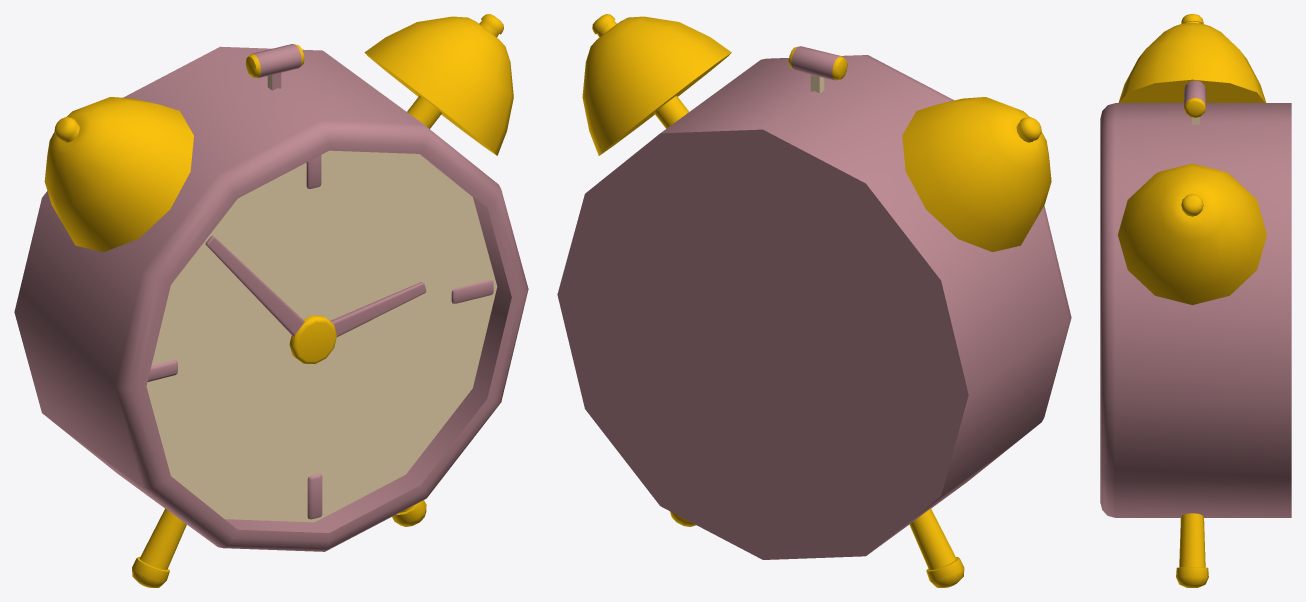
File: Clock_7C.fbx
3 renders of one model, left to right at view 1: azimuth 30°, elevation 25°; view 2: azimuth 150°, elevation 25°; view 3: azimuth 270°, elevation 25°, orthographic. The views are drawn at different scales.
Parts seen in each view (by area): view 1: Clock_7C, Clock_7C Attachment_2, Clock_7C Attachment; view 2: Clock_7C; view 3: Clock_7C.
Part boxes in pixels (left/top/right/bottom): Clock_7C: left=14, top=14, right=528, bottom=587; Clock_7C Attachment_2: left=205, top=235, right=304, bottom=336; Clock_7C Attachment: left=330, top=282, right=426, bottom=336; Clock_7C: left=557, top=14, right=1071, bottom=587; Clock_7C: left=1100, top=14, right=1291, bottom=587.
Bounding box in the file's own units: 0.354 × 0.3796 × 0.1487.
